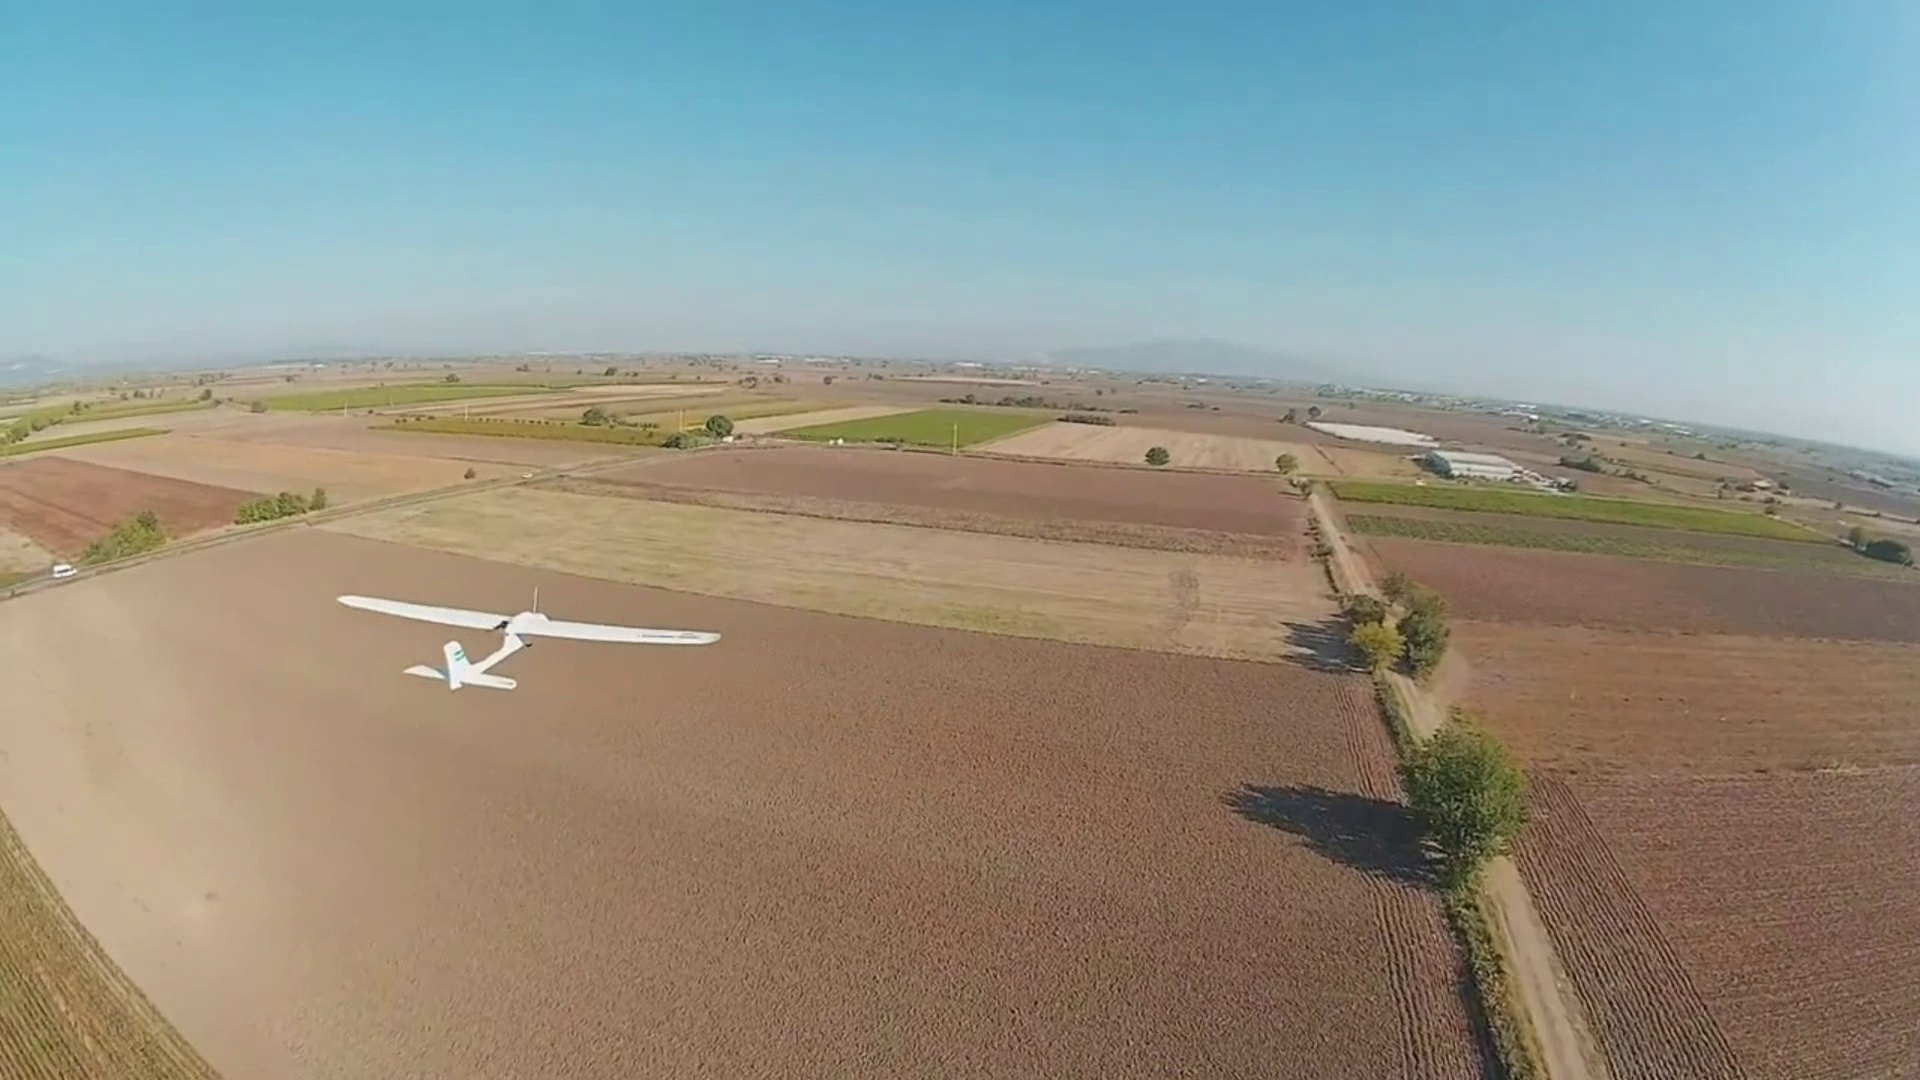airplane: (334, 587, 721, 692)
